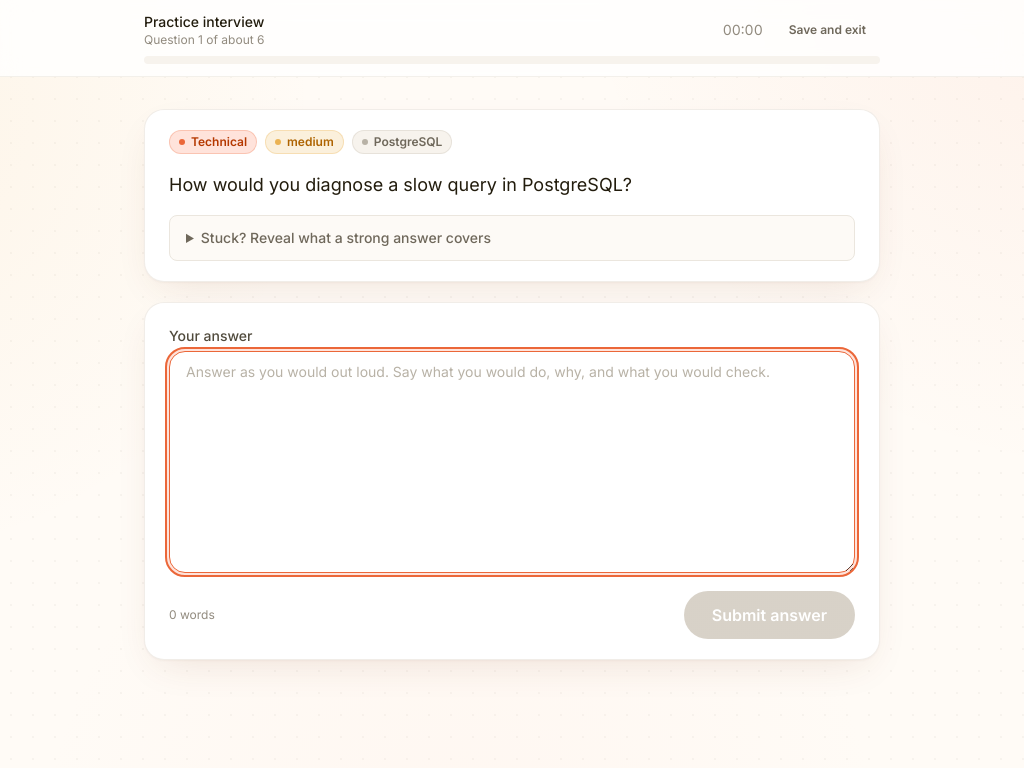
Test: InterviewRoom › surfaces a failed submission without losing the typed answer
Expected: the text "How would you diagnose a slow query in PostgreSQL?" is shown, x1=169 y1=174 x2=632 y2=195
Type "A sufficiently long answer about query plans and indexes." into the text box labelled "Your answer" at coordinates (512, 462), box x1=169 y1=351 x2=855 y2=573
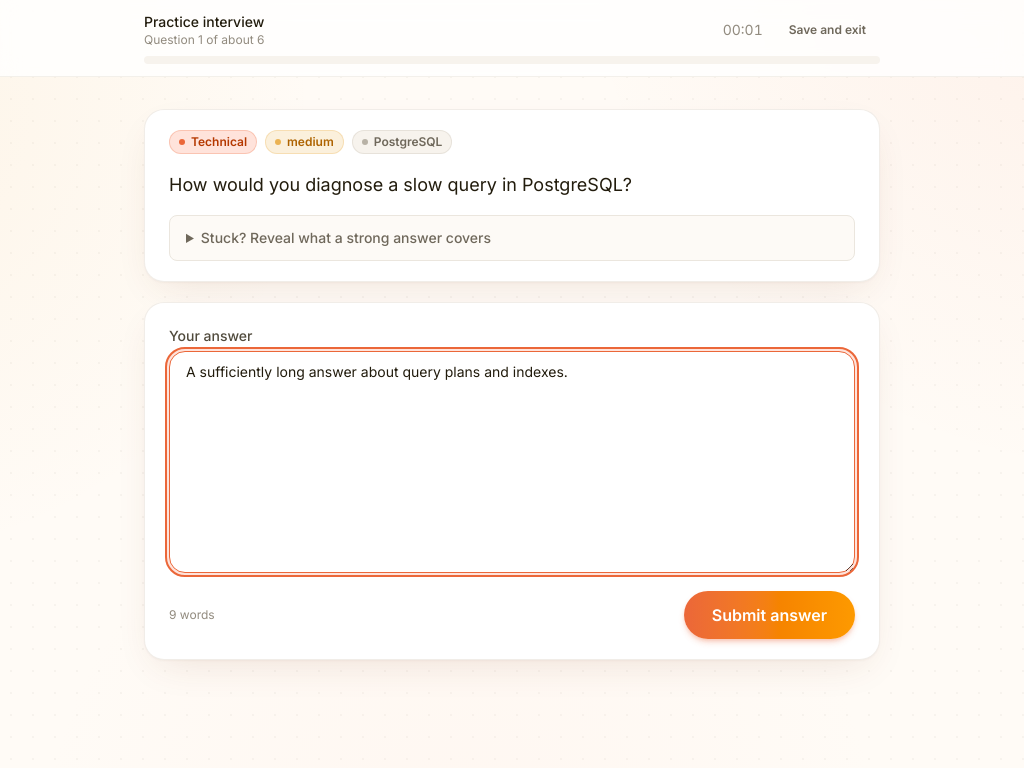
Click the button "Submit answer" at coordinates (769, 615), box x1=684 y1=591 x2=855 y2=639
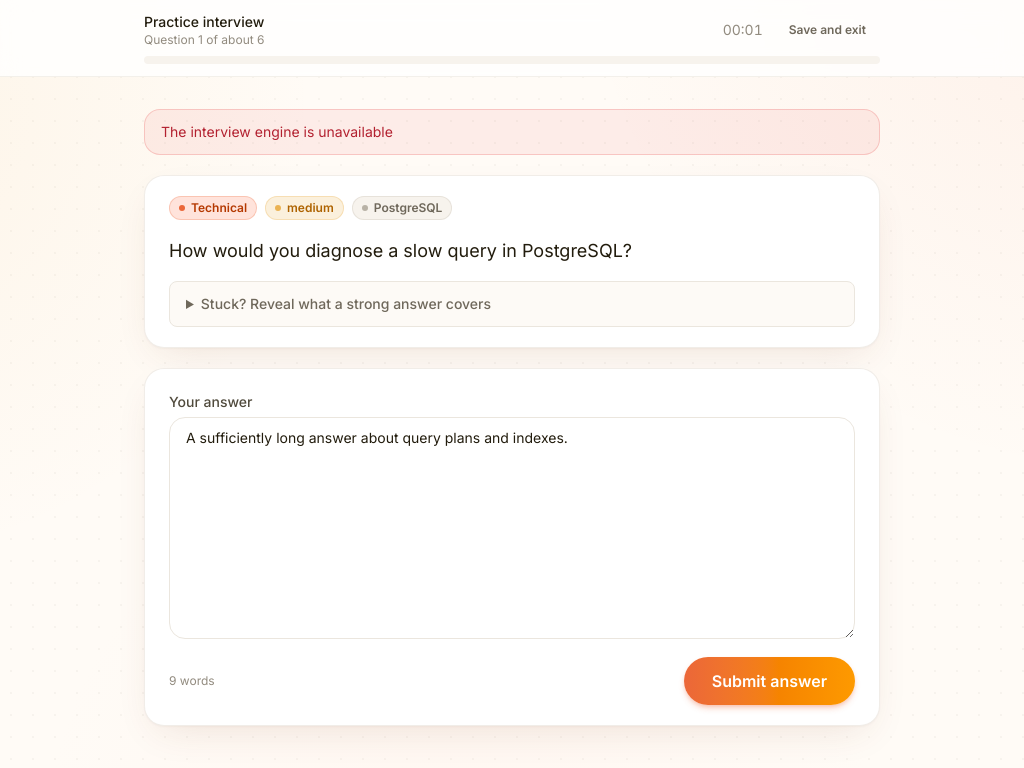
Now the message reads "The interview engine is unavailable", box x1=161 y1=123 x2=393 y2=140
